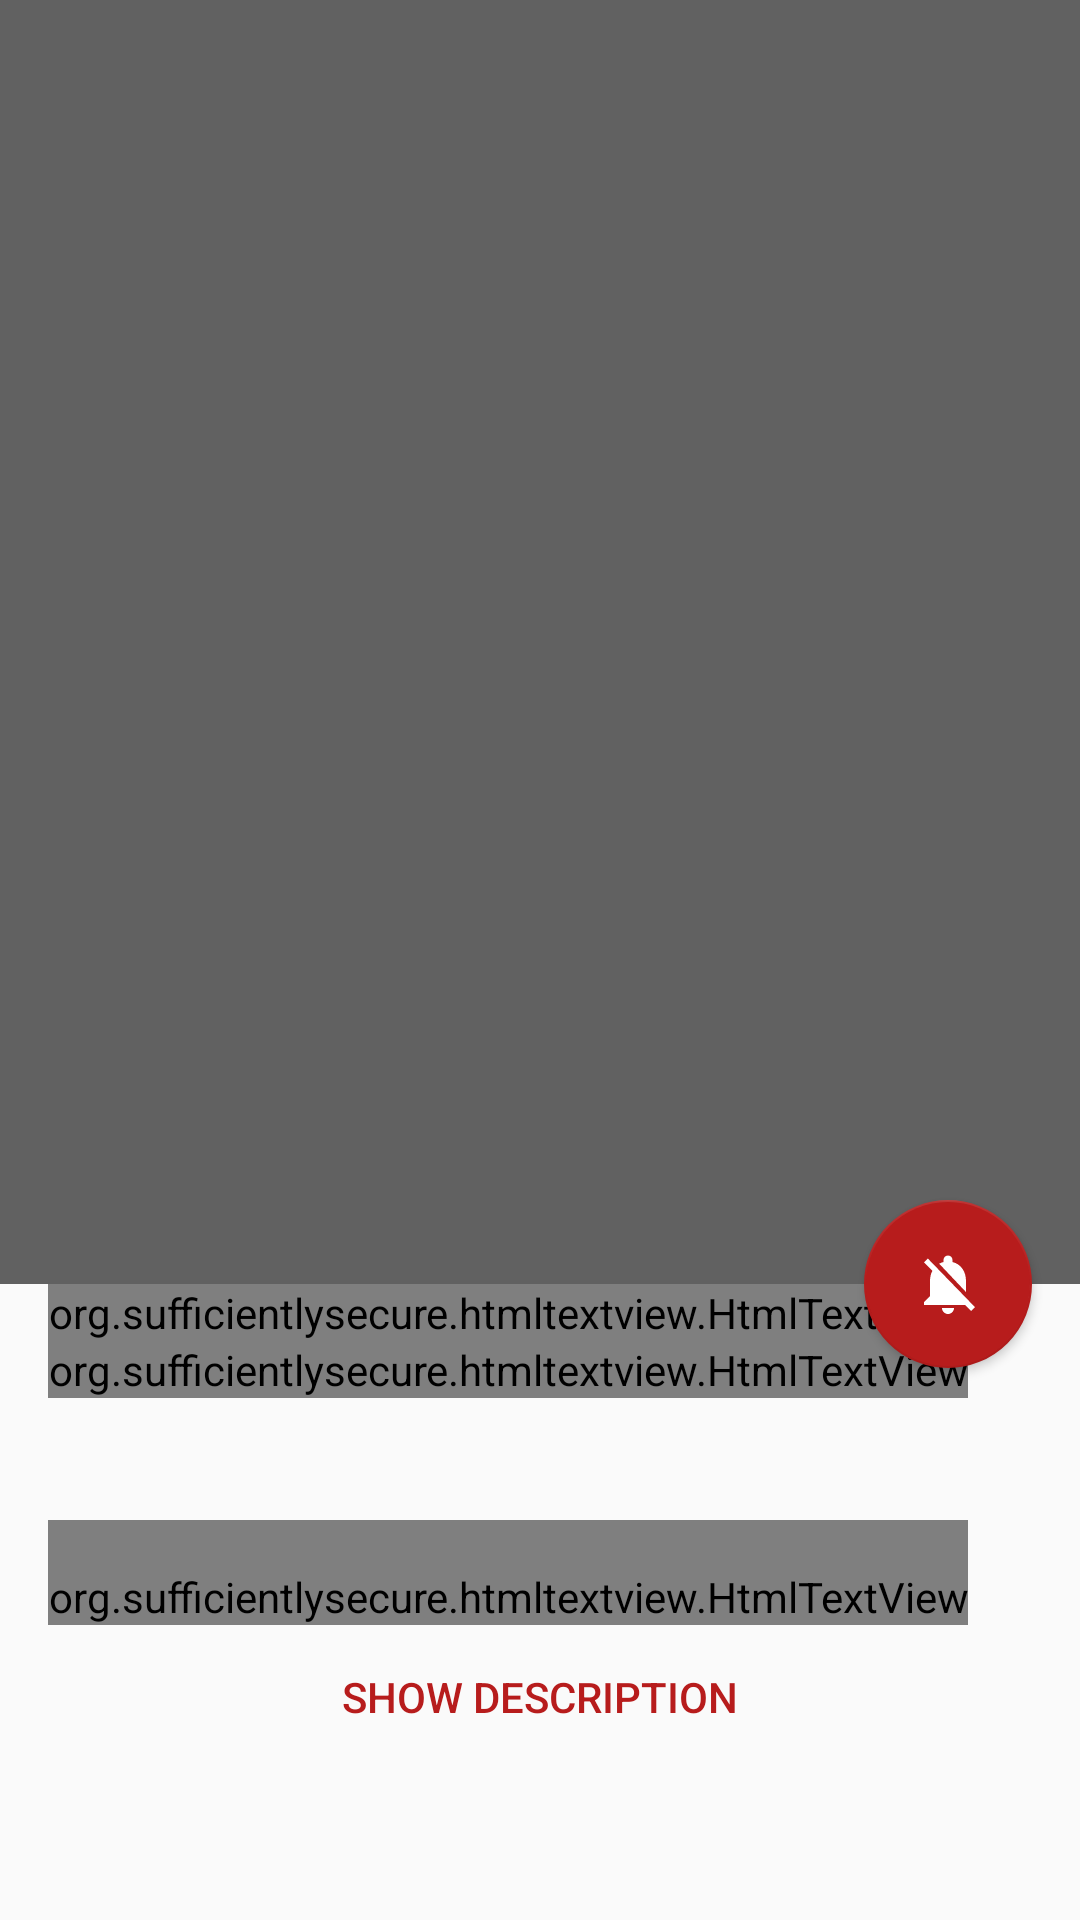

Where to tap for icons on this 1080 × 1920 app screen, as (x,y):
notifications: (948,1284)
